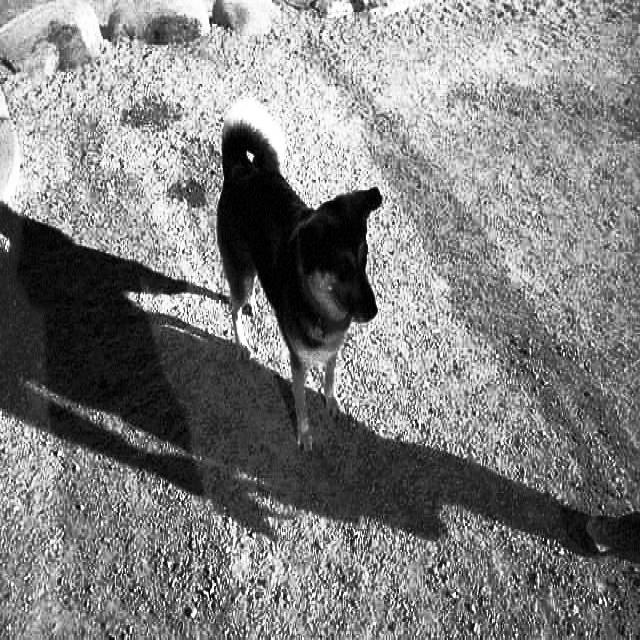Dog: (184, 69, 386, 448)
